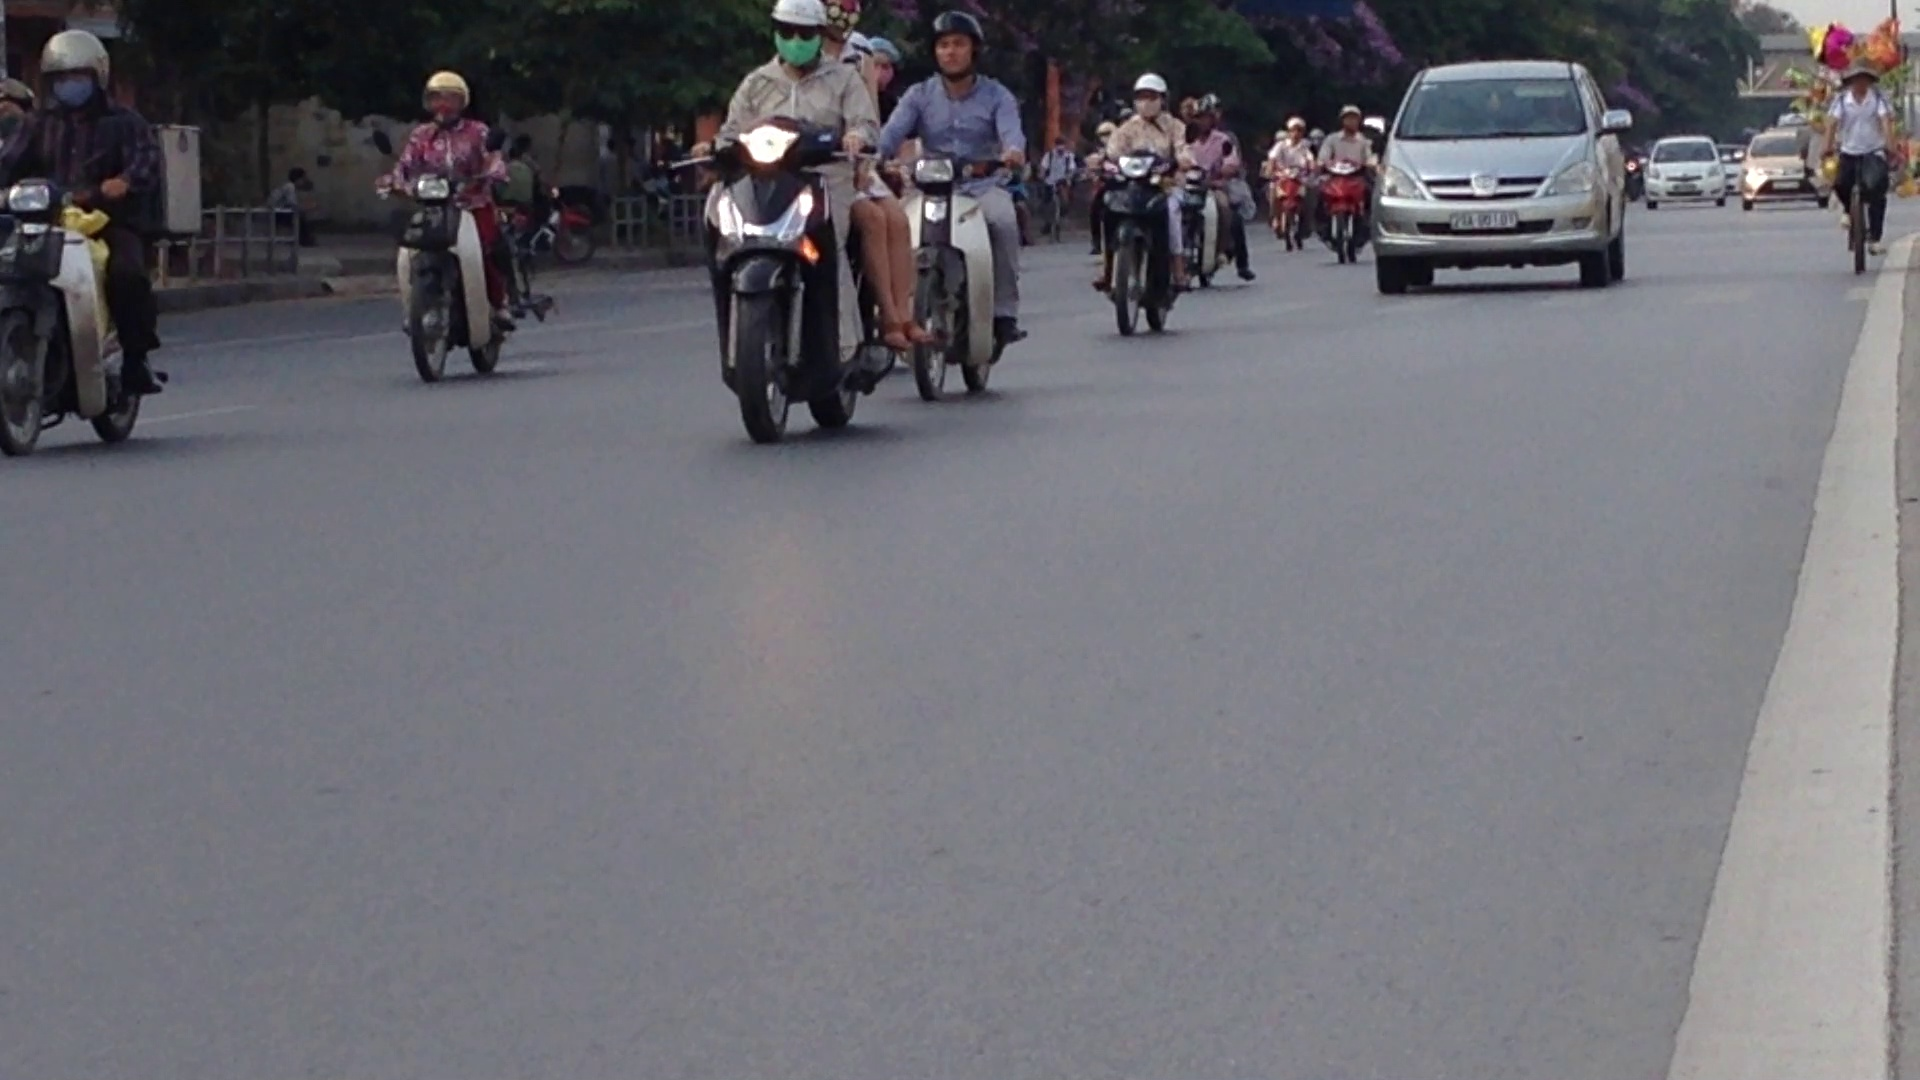person: (1447, 204, 1521, 230)
